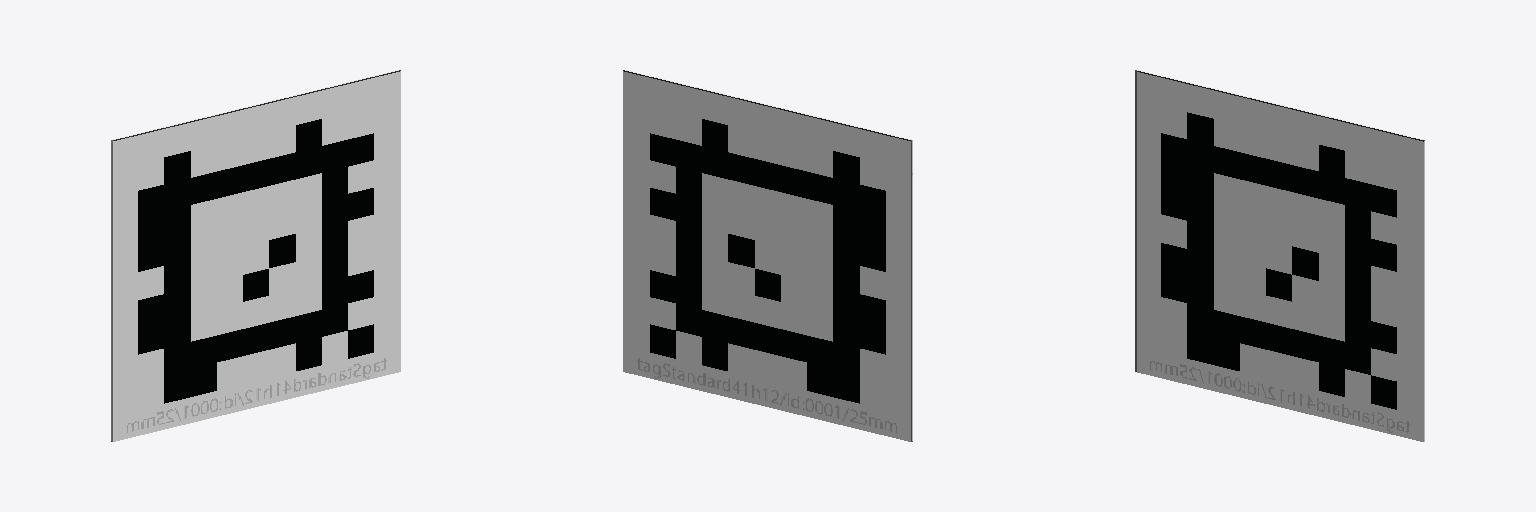
3 views of the same model, side by side, from view 1: azimuth 30°, elevation 25°; view 2: azimuth 150°, elevation 25°; view 3: azimuth 330°, elevation 25° (orthographic).
Parts seen in each view (by area): view 1: Design Layer-1; view 2: Design Layer-1; view 3: Design Layer-1.
Part boxes in pixels (x1,y1,x2,y2): Design Layer-1: (111, 70, 400, 441); Design Layer-1: (623, 70, 912, 441); Design Layer-1: (1135, 70, 1424, 441).
Size of the model in its own units: 55 by 55 by 0.25.
1 materials, 1 textured.